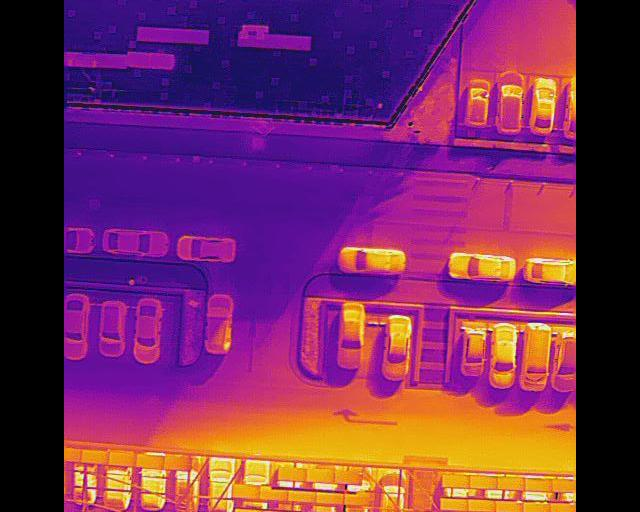Cell: (334, 469, 362, 483), (494, 500, 522, 512), (551, 502, 575, 512)
Cell-Multi: (523, 501, 550, 512)
No-Anomaly: (80, 449, 109, 464), (136, 453, 164, 468), (232, 484, 260, 499), (109, 450, 136, 465), (525, 477, 553, 491), (497, 476, 526, 489), (279, 467, 307, 480), (164, 456, 190, 470), (470, 475, 497, 488), (467, 499, 496, 511), (440, 498, 467, 510), (443, 474, 470, 486), (288, 490, 315, 502), (307, 469, 334, 481), (316, 492, 345, 503), (260, 489, 288, 500), (235, 508, 264, 512)
